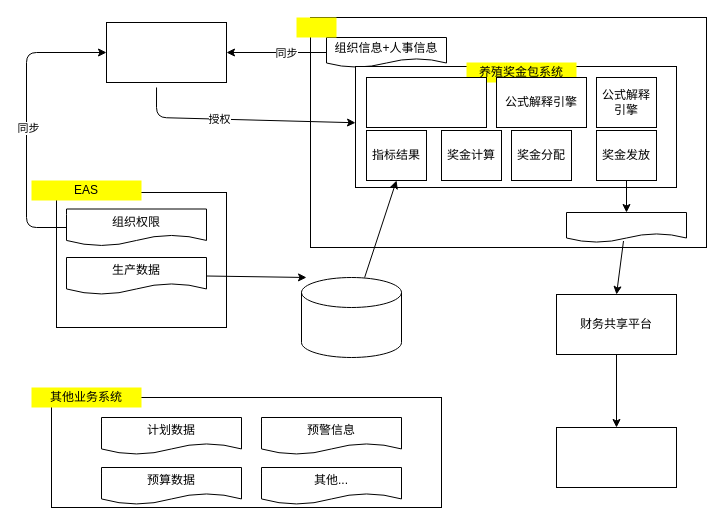
Image size: 724x525. Some labels were removed from this diagram. Here are the shapes that lost their labels. From the top down, the box of each, then its label:
(296, 17, 336, 37): iHR
(106, 22, 226, 82): 鉴权中心
(366, 76, 486, 128): 基础配置信息（定额、单价、区间等）
(566, 212, 686, 242): 薪酬发放单
(300, 276, 402, 358): 指标库
(556, 426, 676, 488): 支付平台（拜特）
